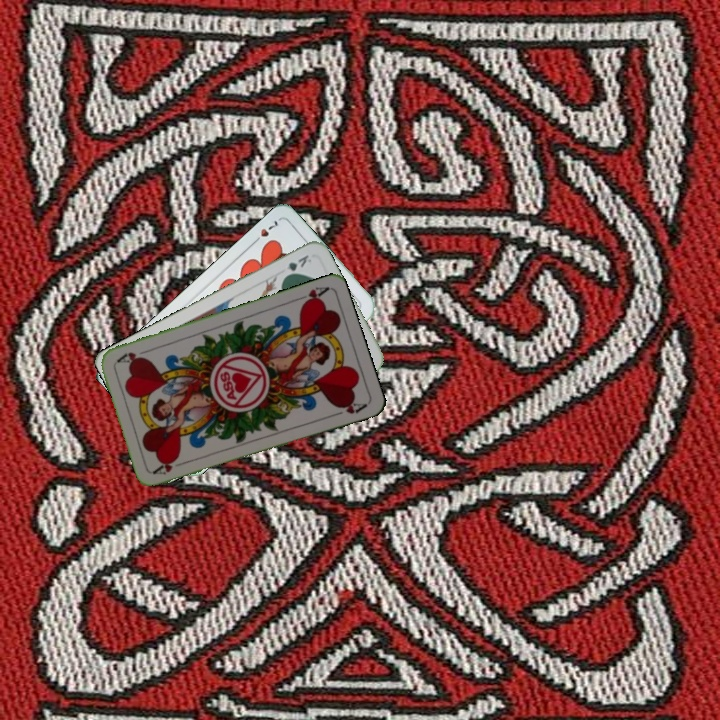GK: (279, 250, 314, 280)
H7: (248, 216, 281, 247)
HA: (291, 282, 331, 308), (150, 457, 190, 477)
